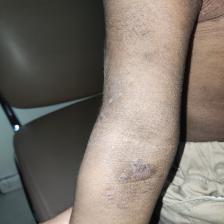DA: (102, 81, 175, 166)
